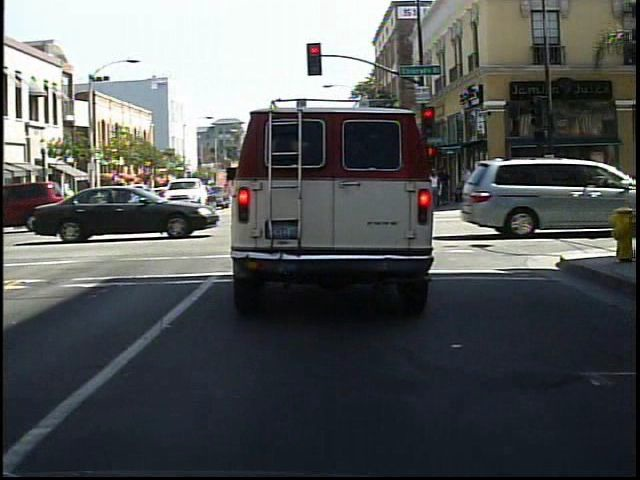person: (532, 158, 552, 211), (511, 166, 531, 210)
